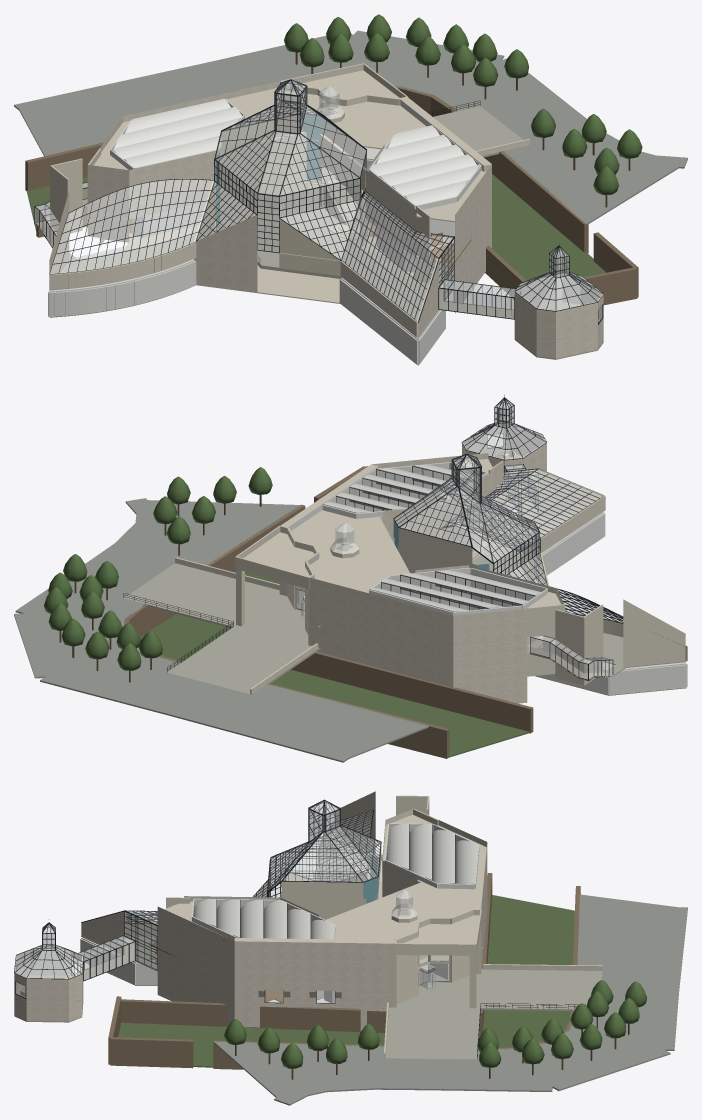
Rendered from MUDAM_R41_MESH_PAYLASIMI_v001_preview.glb.
The picture shows the model from 3 angles, top to bottom: view 1: azimuth 30°, elevation 25°; view 2: azimuth 150°, elevation 25°; view 3: azimuth 270°, elevation 25°; orthographic projection. The views are drawn at different scales.
Parts seen in each view (by area): view 1: R38_PARK_APPROACH_GROUND, R35_MOAT_GROUND, P05_MAIN_ATRIUM_BASE_3, P05_MAIN_ROOF_DECK, R28_W_HIGH_GALLERY_WALL, R07_STAIRWELL_STONE_NORTH, P05_FRONT_0, P05_FLOOR_L00_GH, P05_GALLERY_HALL_WEST2, R35_WALL_49911001_07_2, P05_FLOOR_L00_EAST_GARDEN, R28_E_HIGH_GALLERY_WALL (+58 smaller); view 2: R38_PARK_APPROACH_GROUND, R34_APPROACH_CONTINUOUS_DECK, P05_FRONT_9, R35_MOAT_GROUND, P05_MAIN_ROOF_DECK, P05_FRONT_10, R35_WALL_51946353_03_0, P05_WEST_END, R35_WALL_51946353_04_0, R14_INNER_WALL_B, R29_W_BOUNDARY_32, R11_STONE_END (+27 smaller); view 3: R38_PARK_APPROACH_GROUND, R34_APPROACH_CONTINUOUS_DECK, R35_MOAT_GROUND, R27_CONTINUOUS_HEAD, P05_FRONT_0, P05_MAIN_ROOF_DECK, R35_WALL_51946353_00_0, R35_WALL_453755312_00_0, R17_WALL_6, P06_HIGH_EAVE_UPSTAND_5, P07_CANOPY_SLAB_ENVELOPE, P05_WEST_END (+26 smaller).
Part boxes in pixels (x1,y1,x2,y2): R38_PARK_APPROACH_GROUND: (14, 30, 687, 223); R35_MOAT_GROUND: (26, 174, 606, 280); P05_MAIN_ATRIUM_BASE_3: (220, 133, 306, 222); P05_MAIN_ROOF_DECK: (88, 88, 485, 222); R28_W_HIGH_GALLERY_WALL: (129, 149, 223, 218); R07_STAIRWELL_STONE_NORTH: (193, 215, 257, 292); P05_FRONT_0: (455, 164, 491, 313); P05_FLOOR_L00_GH: (216, 205, 368, 276); P05_GALLERY_HALL_WEST2: (87, 165, 129, 241); R35_WALL_49911001_07_2: (499, 151, 588, 253); P05_FLOOR_L00_EAST_GARDEN: (342, 248, 452, 338); R28_E_HIGH_GALLERY_WALL: (366, 170, 416, 257); R38_PARK_APPROACH_GROUND: (14, 498, 429, 762); R34_APPROACH_CONTINUOUS_DECK: (124, 563, 318, 693); P05_FRONT_9: (309, 577, 453, 687); R35_MOAT_GROUND: (140, 571, 529, 757); P05_MAIN_ROOF_DECK: (291, 459, 564, 622); P05_FRONT_10: (453, 608, 527, 703); R35_WALL_51946353_03_0: (317, 652, 458, 712); P05_WEST_END: (623, 599, 685, 667); R35_WALL_51946353_04_0: (456, 688, 533, 733); R14_INNER_WALL_B: (555, 609, 585, 685); R29_W_BOUNDARY_32: (609, 664, 686, 695); R11_STONE_END: (538, 469, 604, 516); R38_PARK_APPROACH_GROUND: (214, 894, 687, 1105); R34_APPROACH_CONTINUOUS_DECK: (385, 969, 602, 1059); R35_MOAT_GROUND: (118, 895, 574, 1067); R27_CONTINUOUS_HEAD: (234, 938, 394, 991); P05_FRONT_0: (157, 906, 234, 1026); P05_MAIN_ROOF_DECK: (157, 814, 486, 949); R35_WALL_51946353_00_0: (121, 999, 386, 1033); R35_WALL_453755312_00_0: (110, 1037, 193, 1068); R17_WALL_6: (26, 978, 68, 1021); P06_HIGH_EAVE_UPSTAND_5: (281, 881, 363, 899); P07_CANOPY_SLAB_ENVELOPE: (403, 915, 479, 943); P05_WEST_END: (335, 791, 375, 854).
Bounding box in the file's own units: 125 × 36.19 × 133.
27 materials, 2 textured.
